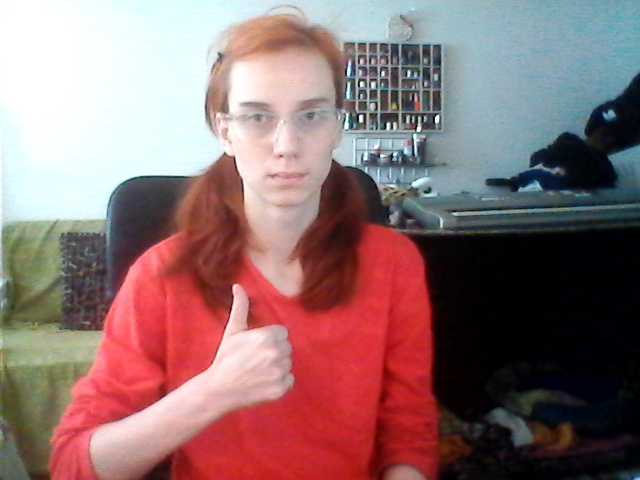jeden: (206, 283, 298, 417)
